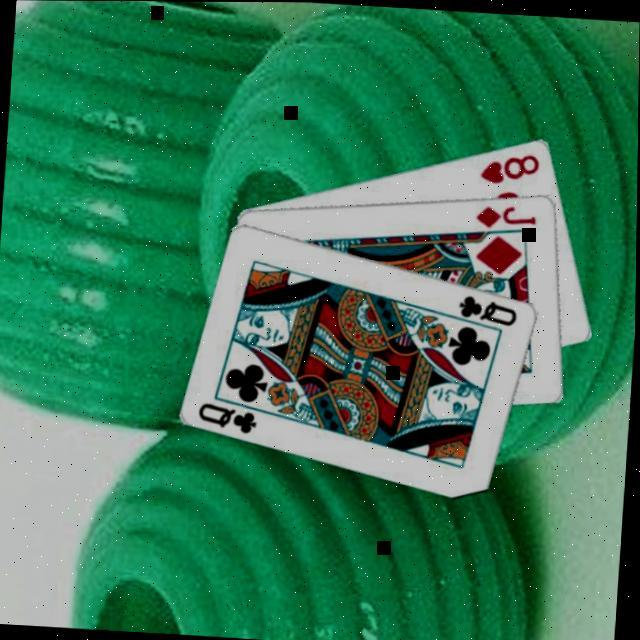8H: (476, 148, 543, 189)
JD: (472, 201, 540, 232)
QC: (194, 400, 262, 437), (455, 292, 521, 329)
